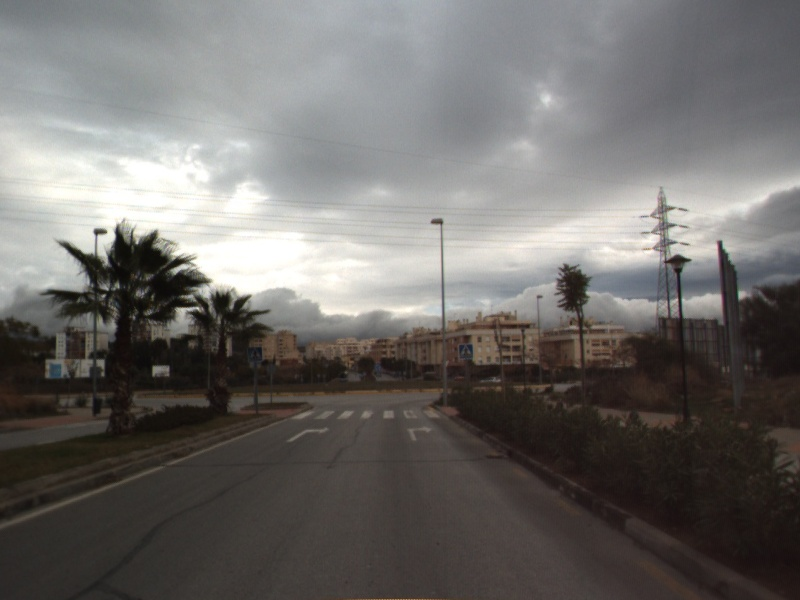RIGHT: (284, 424, 331, 444), (405, 423, 435, 443)
